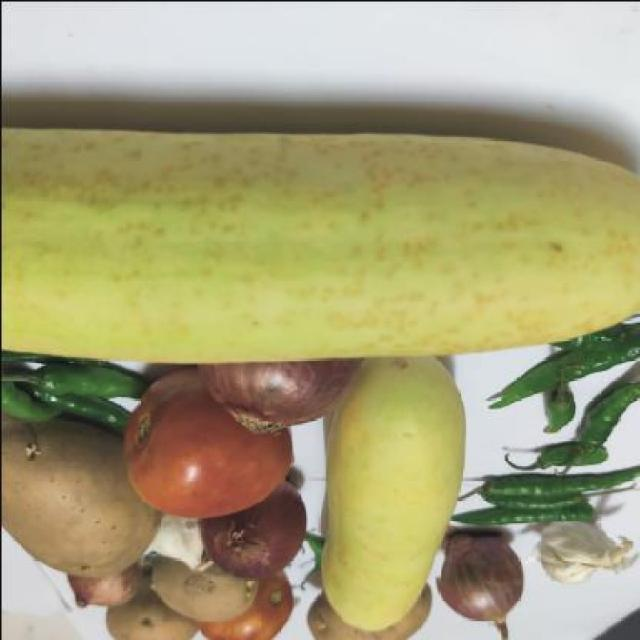Garlic: (540, 517, 640, 585)
Green Chili: (469, 442, 640, 516), (0, 358, 125, 429)
Onion: (434, 530, 522, 636)
Tomato: (116, 379, 278, 518), (0, 440, 142, 571)
cucumber: (0, 115, 640, 371), (322, 336, 478, 632)
